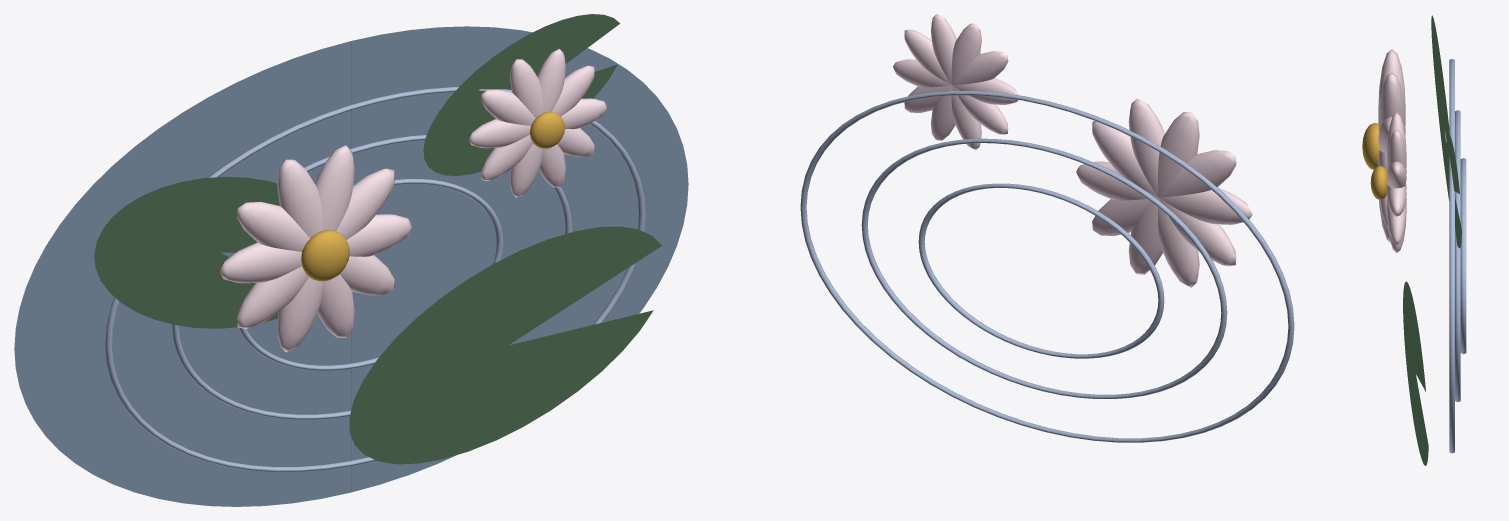
The model's file is aic-16568-v1.glb.
3 renders of one model, left to right at view 1: azimuth 30°, elevation 25°; view 2: azimuth 150°, elevation 25°; view 3: azimuth 270°, elevation 25°, orthographic. The views are drawn at different scales.
Visible parts, largest first — view 1: ReflectingWater, LilyPads, LilyPetals, ReflectionRings, LilyCenters; view 2: LilyPetals, ReflectionRings; view 3: ReflectionRings, LilyPetals, LilyPads, LilyCenters.
Boxes of the visible parts, x1,y1,x2,y2 form: ReflectingWater: [14, 26, 688, 506]; LilyPads: [94, 14, 661, 464]; LilyPetals: [219, 49, 607, 352]; ReflectionRings: [105, 87, 645, 471]; LilyCenters: [301, 111, 564, 281]; LilyPetals: [892, 14, 1252, 287]; ReflectionRings: [800, 91, 1294, 442]; ReflectionRings: [1449, 59, 1466, 453]; LilyPetals: [1378, 49, 1406, 252]; LilyPads: [1403, 15, 1461, 465]; LilyCenters: [1362, 123, 1387, 199].
Size of the model in its own units: 1.44 by 0.9216 by 0.2771.
